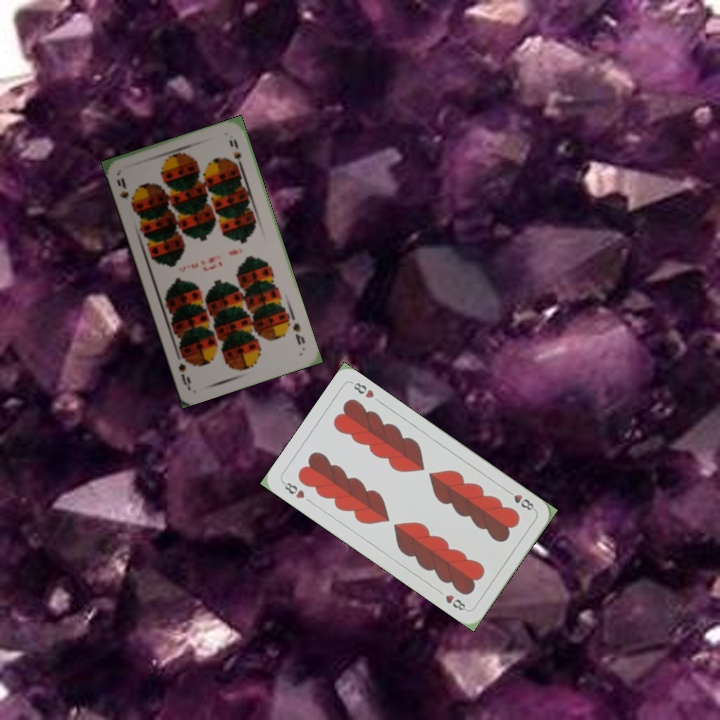H8: (502, 486, 538, 514), (278, 477, 307, 501)
S9: (113, 174, 138, 209), (289, 319, 308, 347)
